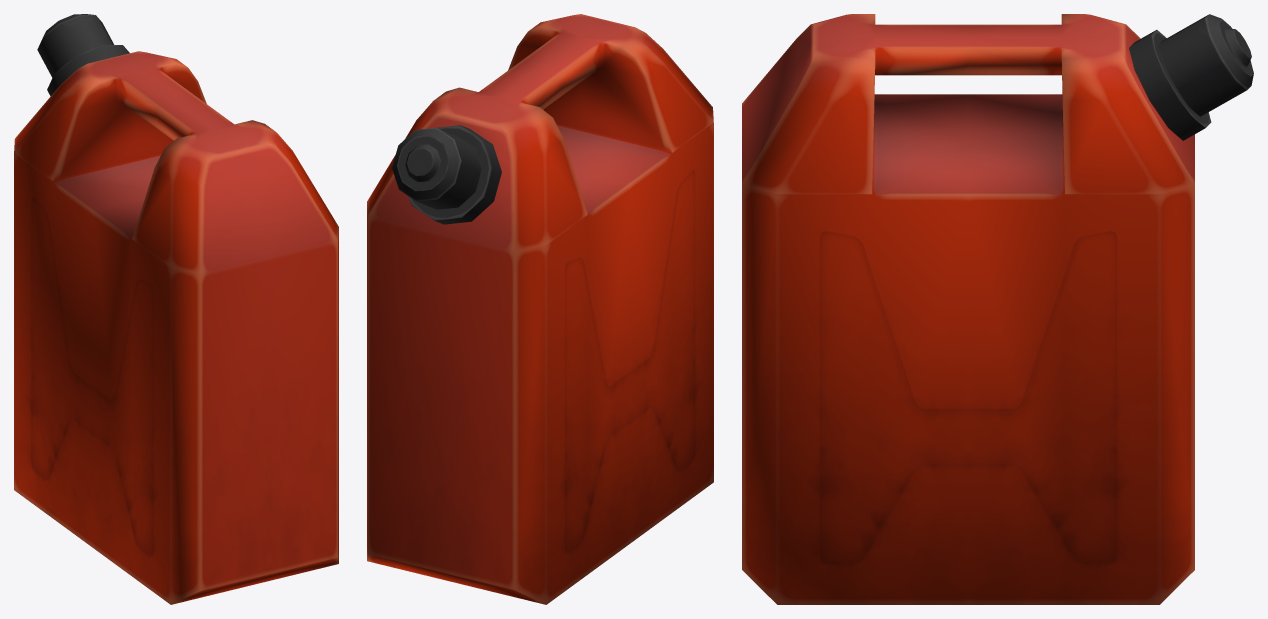
Rendered from FuelContainer.fbx.
The picture shows the model from 3 angles, left to right: view 1: azimuth 30°, elevation 25°; view 2: azimuth 150°, elevation 25°; view 3: azimuth 270°, elevation 25°; orthographic projection. The views are drawn at different scales.
Parts seen in each view (by area): view 1: FuelContainer; view 2: FuelContainer; view 3: FuelContainer.
Part boxes in pixels (x1,y1,x2,y2): FuelContainer: (14, 14, 338, 604); FuelContainer: (367, 14, 713, 604); FuelContainer: (742, 14, 1253, 604).
Bounding box in the file's own units: 104 × 261 × 226.
